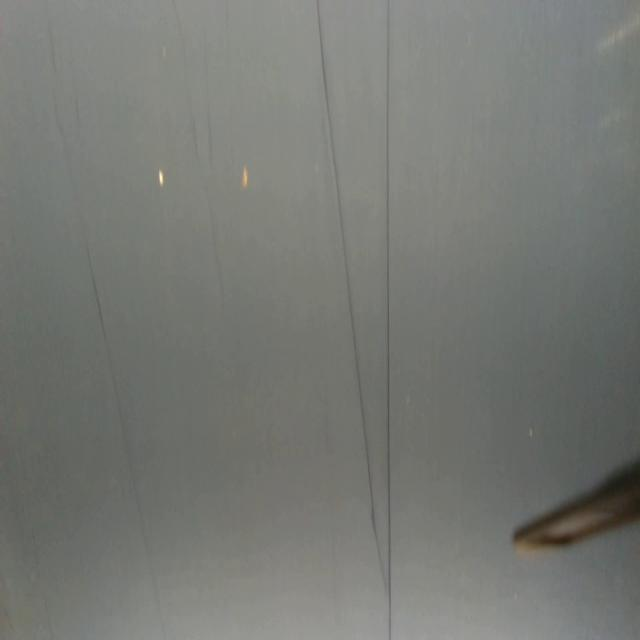crease: (316, 0, 384, 587), (84, 247, 166, 640), (190, 106, 225, 310), (384, 1, 395, 640)
hole: (240, 162, 250, 192), (160, 40, 169, 60), (158, 168, 164, 190), (529, 428, 535, 441)
